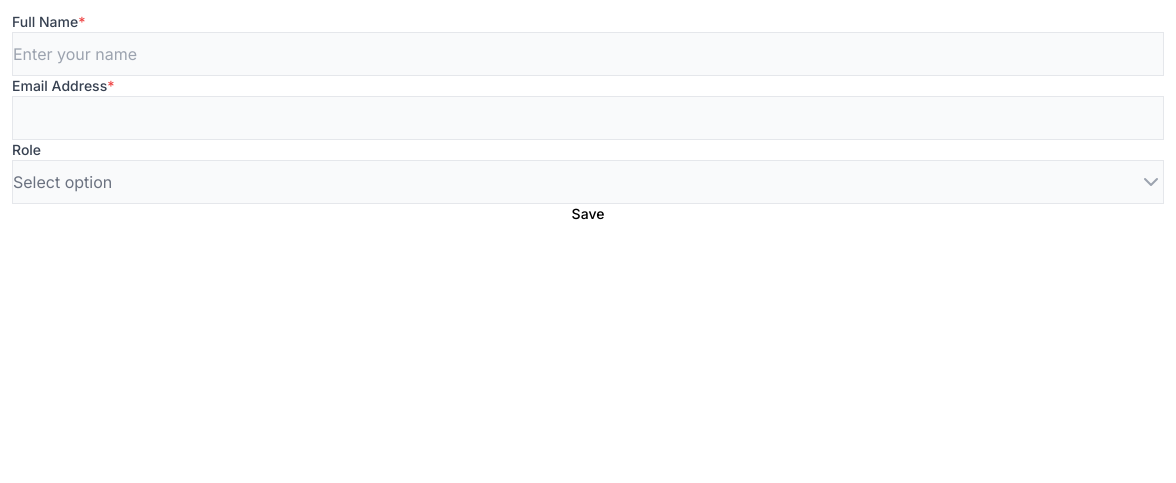
Test: Native PWA Components › NativeForm › handles select fields with bottom sheet
Click the button "Select option": click(63, 182) [12,160,1164,204]
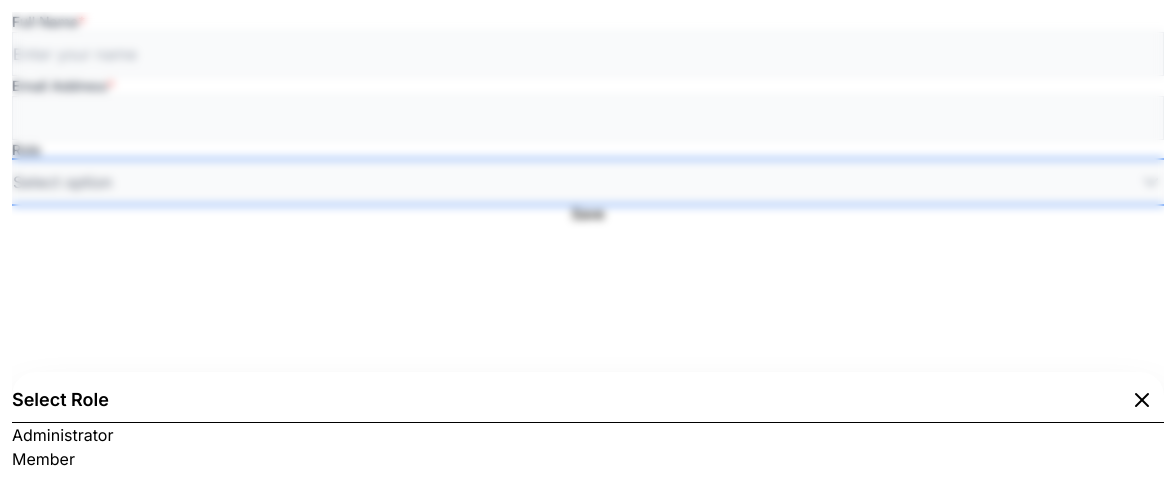
Expected: the heading "Select Role" is shown, [12,386,109,414]
Click the button "Administrator": click(63, 435) [12,423,1164,447]
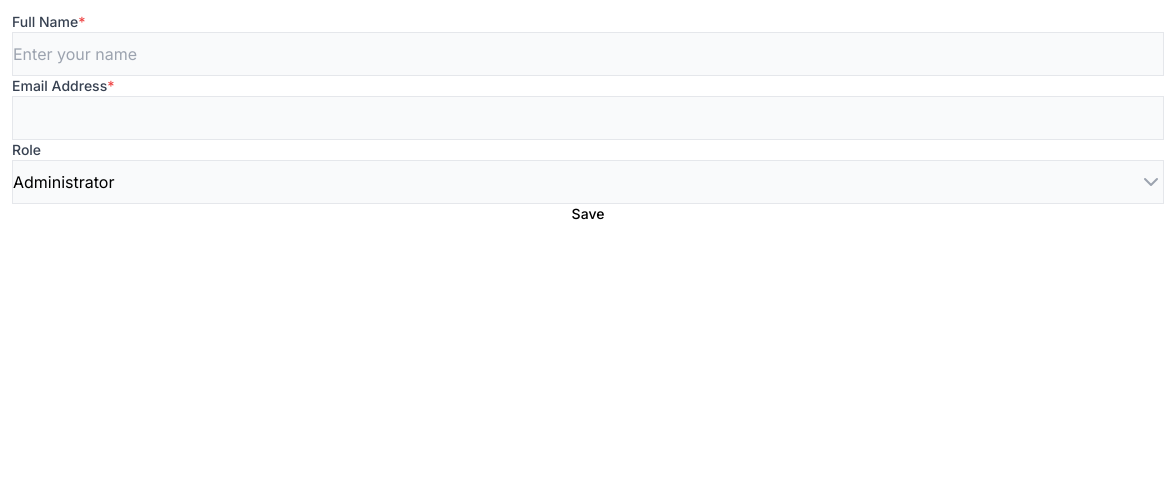
Expected: the text "Administrator" is shown, [13,170,114,194]
